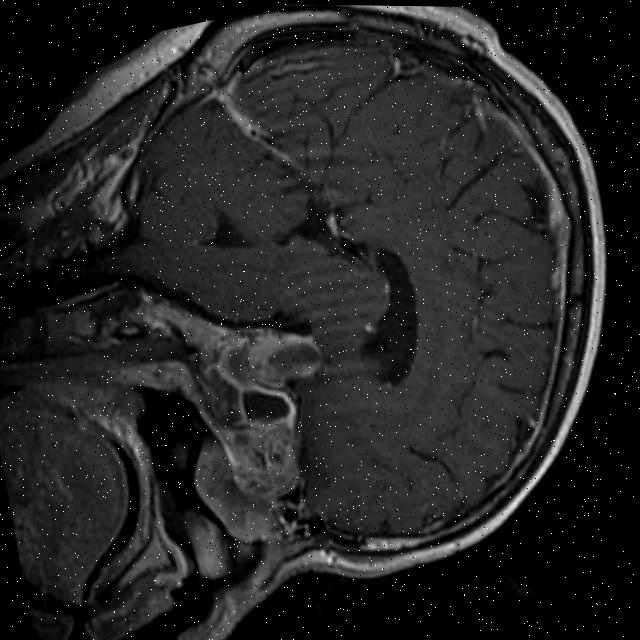Pituitary: (241, 325, 330, 391)
